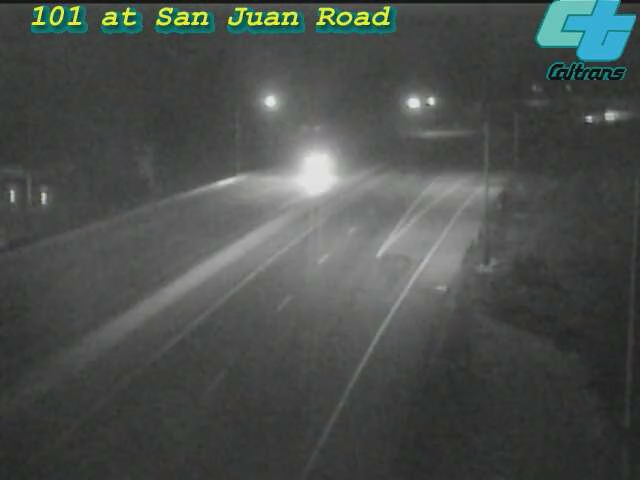vehicle: (274, 131, 354, 211), (586, 91, 636, 141)
